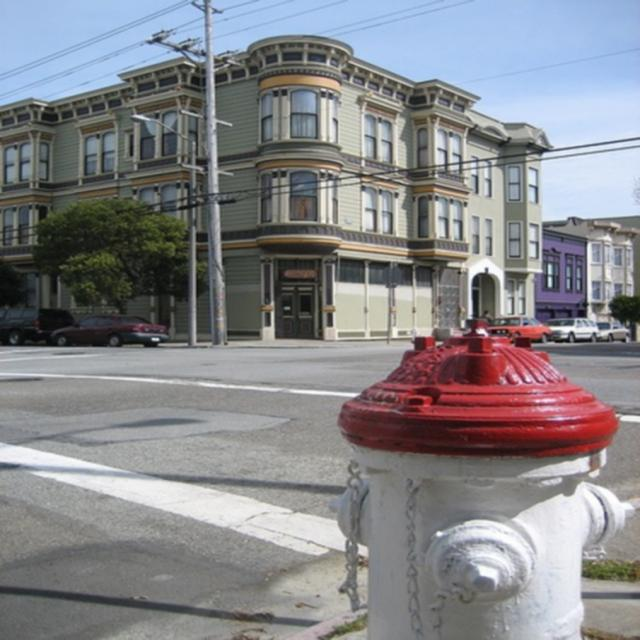car: (50, 312, 166, 347), (0, 306, 73, 345), (484, 312, 550, 340), (543, 316, 599, 342), (592, 320, 630, 342)
fire_hydrant: (334, 317, 632, 630)
pole: (196, 0, 234, 343)
